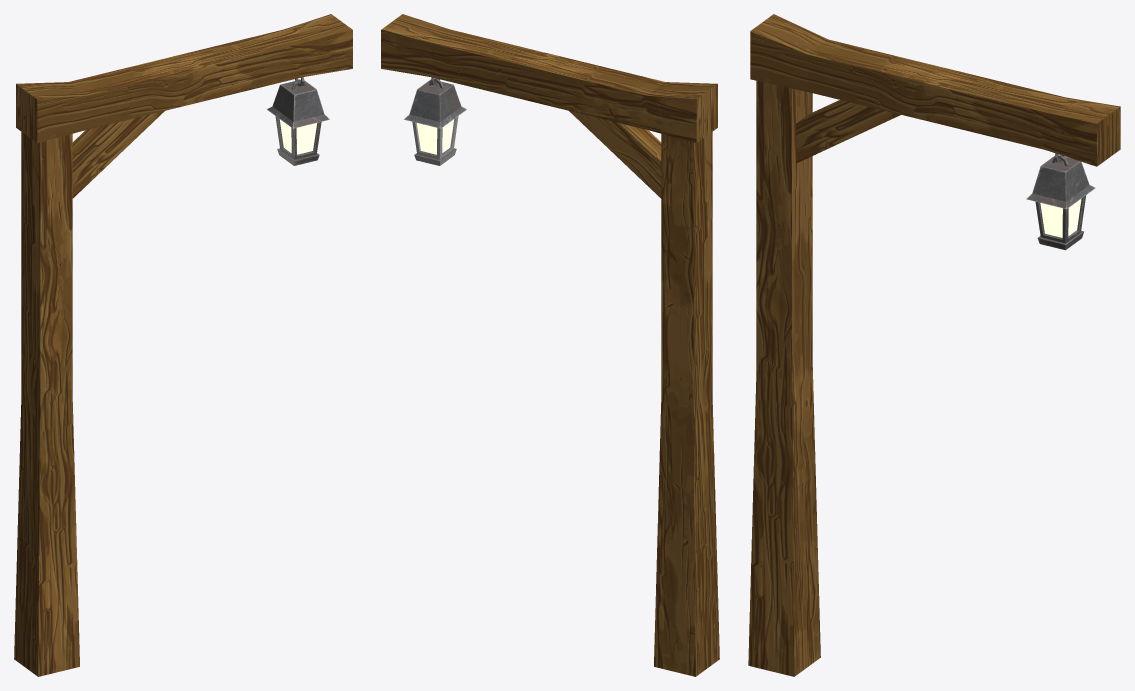
The model's file is low_poly_lamp_post.glb.
3 renders of one model, left to right at view 1: azimuth 30°, elevation 25°; view 2: azimuth 150°, elevation 25°; view 3: azimuth 330°, elevation 25°, orthographic. The views are drawn at different scales.
Parts seen in each view (by area): view 1: low_poly_post, low_poly_lamp; view 2: low_poly_post, low_poly_lamp; view 3: low_poly_post, low_poly_lamp.
Boxes of the visible parts, x1,y1,x2,y2 form: low_poly_post: (14, 14, 352, 676); low_poly_lamp: (267, 80, 329, 165); low_poly_post: (381, 14, 719, 676); low_poly_lamp: (404, 79, 466, 165); low_poly_post: (748, 14, 1120, 676); low_poly_lamp: (1026, 156, 1095, 250).
Bounding box in the file's own units: 4.55 × 7.93 × 0.66.
Materials: 1 (1 with a texture image).
